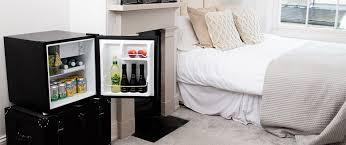bed: (176, 0, 346, 143)
blanket: (260, 40, 346, 145)
fridge: (5, 30, 154, 112)
pillow: (177, 7, 261, 52)
window: (272, 0, 346, 36)
